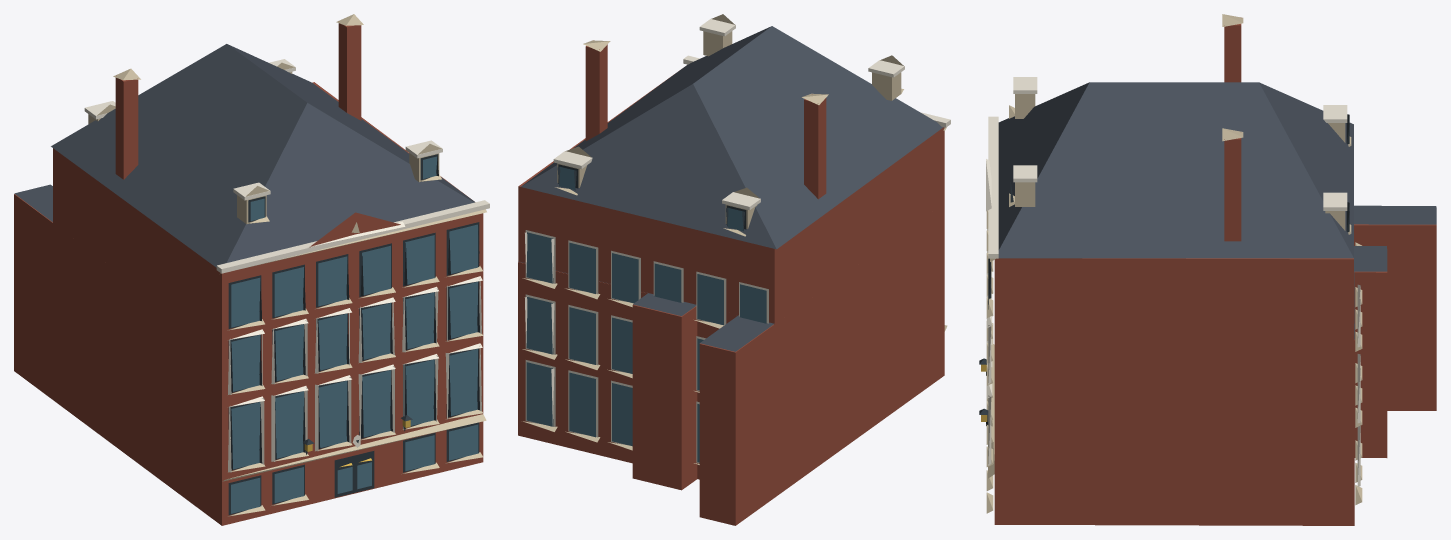
The model's file is kattenkabinet.lod1.glb.
The picture shows the model from 3 angles, left to right: view 1: azimuth 30°, elevation 25°; view 2: azimuth 150°, elevation 25°; view 3: azimuth 270°, elevation 25°; orthographic projection. The views are drawn at different scales.
Parts seen in each view (by area): view 1: kattenkabinet; view 2: kattenkabinet; view 3: kattenkabinet.
Boxes of the visible parts, x1=… form: kattenkabinet: x1=14, y1=14, x2=489, y2=525; kattenkabinet: x1=518, y1=14, x2=950, y2=525; kattenkabinet: x1=979, y1=14, x2=1436, y2=525.
Size of the model in its own units: 15.31 by 19.85 by 21.54.
